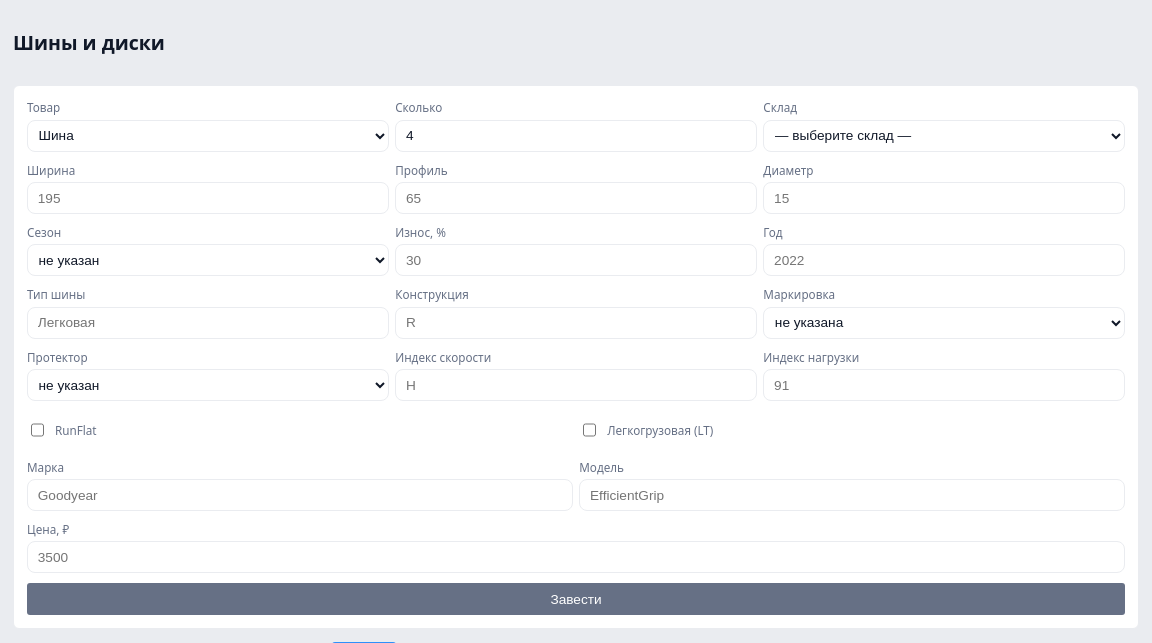
Test: износ шины в процентах › отказ сервера по износу стоит у поля «Износ, %», а не только над формой
Step 1. Select "Исакова" in the dropdown labelled "Склад" → (944, 136), box [763,120,1125,152]
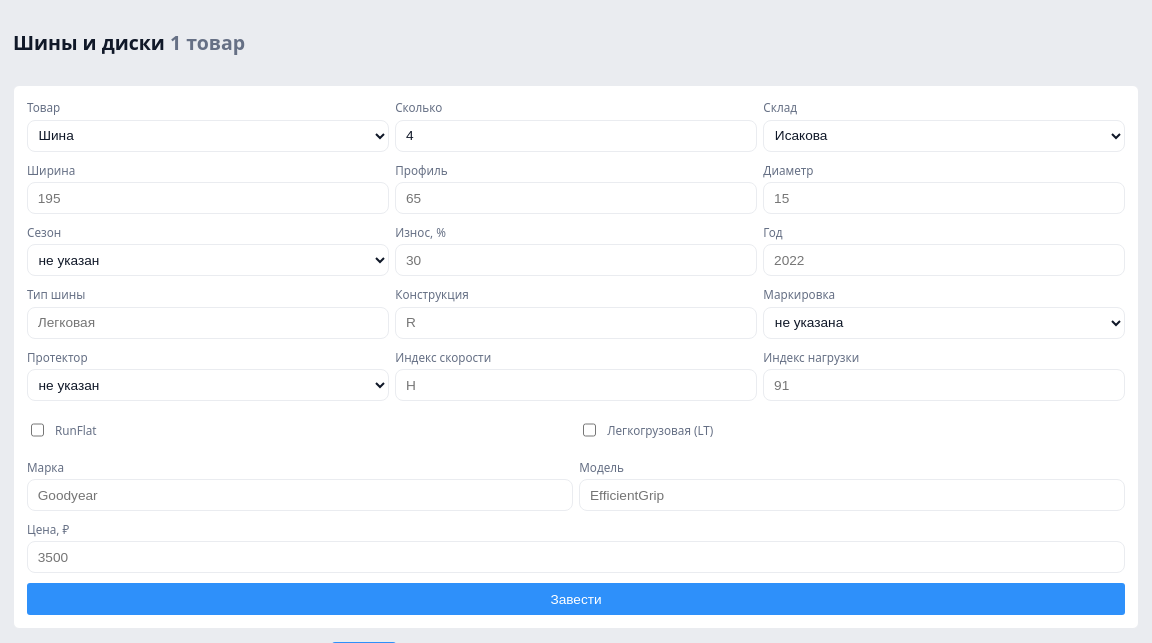
Step 2. Type "30,5" into the field labelled "Износ, %" → (576, 260), box [395,244,757,276]
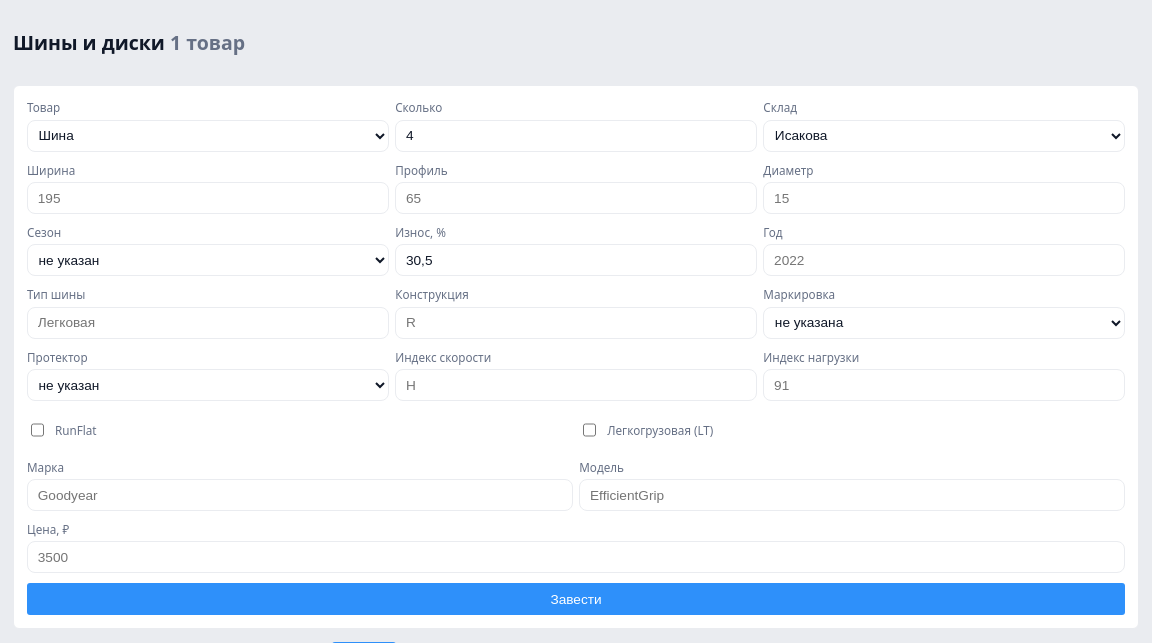
Step 3. Click the button "Завести" → (576, 599), box [27,583,1125,615]
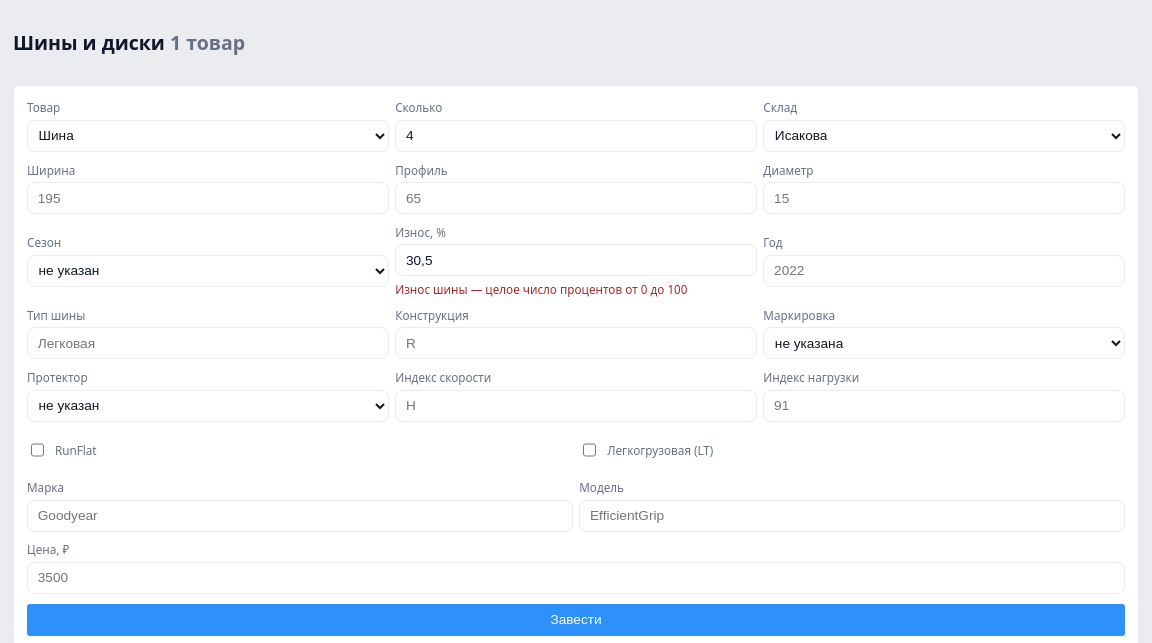
expect the message reads "Износ шины — целое число процентов от 0 до 100": met, box [395,281,688,297]
Note: Правка поля снимает отказ: он про прежнее значение.
Step 4. Replace the text in the field with placeholder "30" with "30" → (576, 260), box [395,244,757,276]
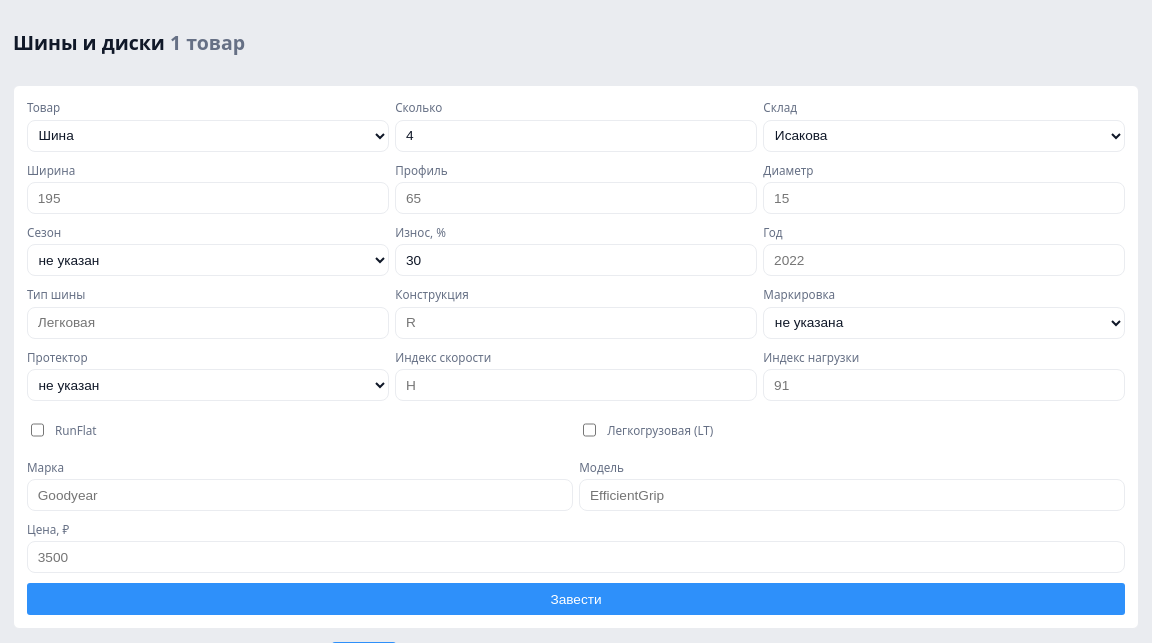
expect the message "Износ шины — целое число процентов от 0 до 100" is gone: met
